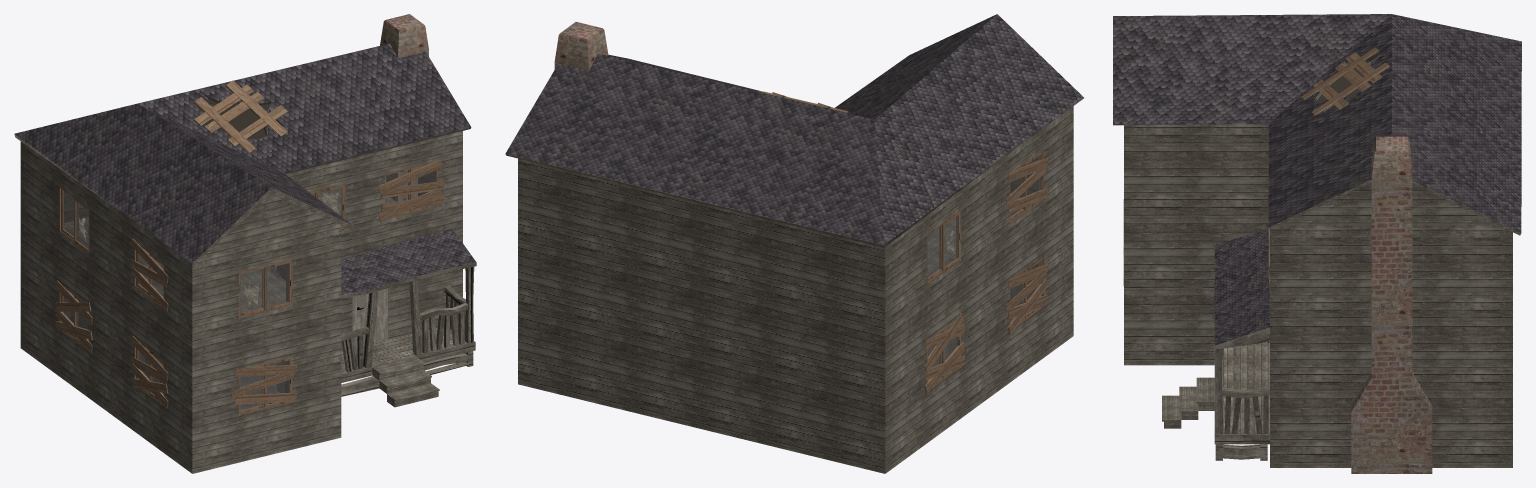
The model's file is house_b.glb.
3 renders of one model, left to right at view 1: azimuth 30°, elevation 25°; view 2: azimuth 150°, elevation 25°; view 3: azimuth 270°, elevation 25°, orthographic. The views are drawn at different scales.
Parts seen in each view (by area): view 1: House_Wood Planks_0, House_Shingle roofing_0, House_Dirty Wood Planks_0, House_Material.002_0, House_Bricks Damaged_0, House_Wood Plank_0; view 2: House_Wood Planks_0, House_Shingle roofing_0, House_Dirty Wood Planks_0, House_Material.002_0, House_Bricks Damaged_0; view 3: House_Wood Planks_0, House_Shingle roofing_0, House_Bricks Damaged_0, House_Dirty Wood Planks_0.
Part boxes in pixels (x1,y1,x2,y2): House_Wood Planks_0: (14, 94, 476, 473); House_Shingle roofing_0: (14, 43, 476, 294); House_Dirty Wood Planks_0: (55, 80, 444, 415); House_Material.002_0: (63, 169, 434, 410); House_Bricks Damaged_0: (380, 14, 428, 201); House_Wood Plank_0: (352, 288, 387, 347); House_Wood Planks_0: (505, 106, 1073, 473); House_Shingle roofing_0: (505, 14, 1083, 244); House_Dirty Wood Planks_0: (708, 91, 1048, 394); House_Material.002_0: (928, 155, 1043, 379); House_Bricks Damaged_0: (554, 22, 608, 70); House_Wood Planks_0: (1124, 53, 1521, 467); House_Shingle roofing_0: (1113, 14, 1521, 345); House_Bricks Damaged_0: (1351, 136, 1432, 473); House_Dirty Wood Planks_0: (1123, 47, 1389, 291).
Size of the model in its own units: 18.87 by 14.61 by 16.81.
Materials: 7 (5 with a texture image).
